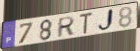7: (18, 21, 34, 45)
8: (117, 6, 135, 30), (39, 18, 54, 42)
J: (97, 8, 115, 34)
R: (56, 15, 76, 39)
T: (79, 12, 95, 36)
